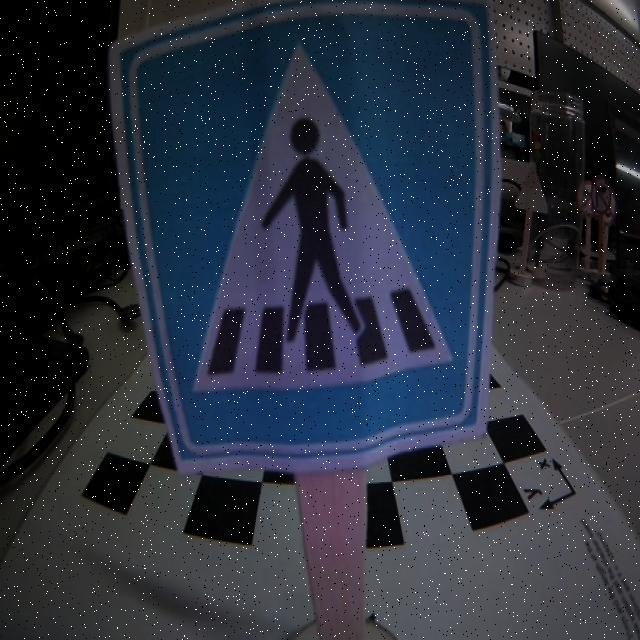Rambu Penyebrangan: (125, 0, 480, 457)
